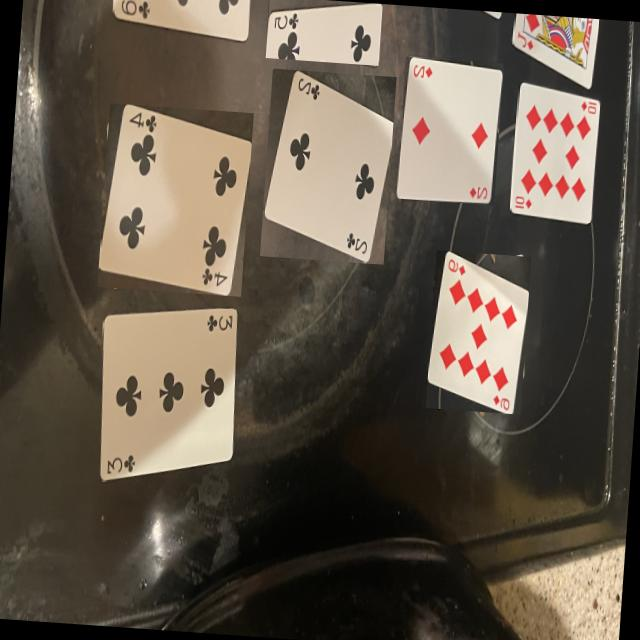10 of diamonds: (509, 82, 598, 222)
2 of clubs: (262, 71, 391, 262)
2 of diamonds: (395, 57, 501, 203)
3 of clubs: (98, 308, 235, 481)
4 of clubs: (98, 104, 249, 295)
5 of clubs: (264, 2, 381, 65)
6 of clubs: (112, 0, 248, 40)
9 of diamonds: (426, 251, 527, 413)
Jack of diamonds: (512, 13, 597, 89)
